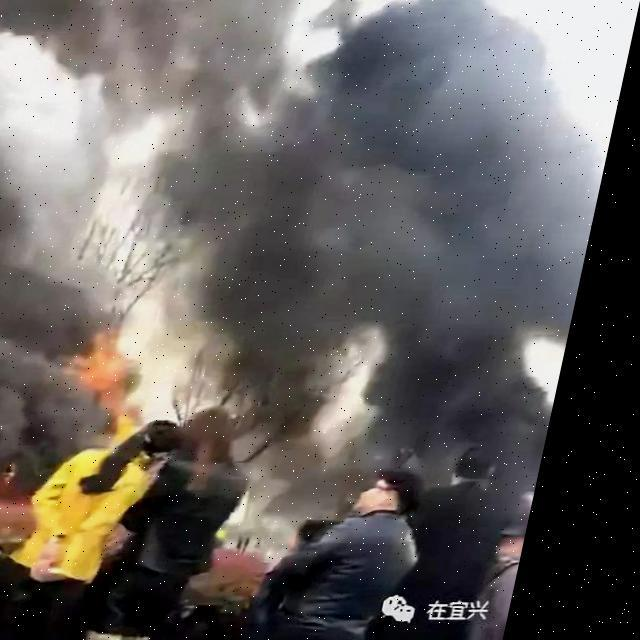Fire: (70, 332, 175, 442)
